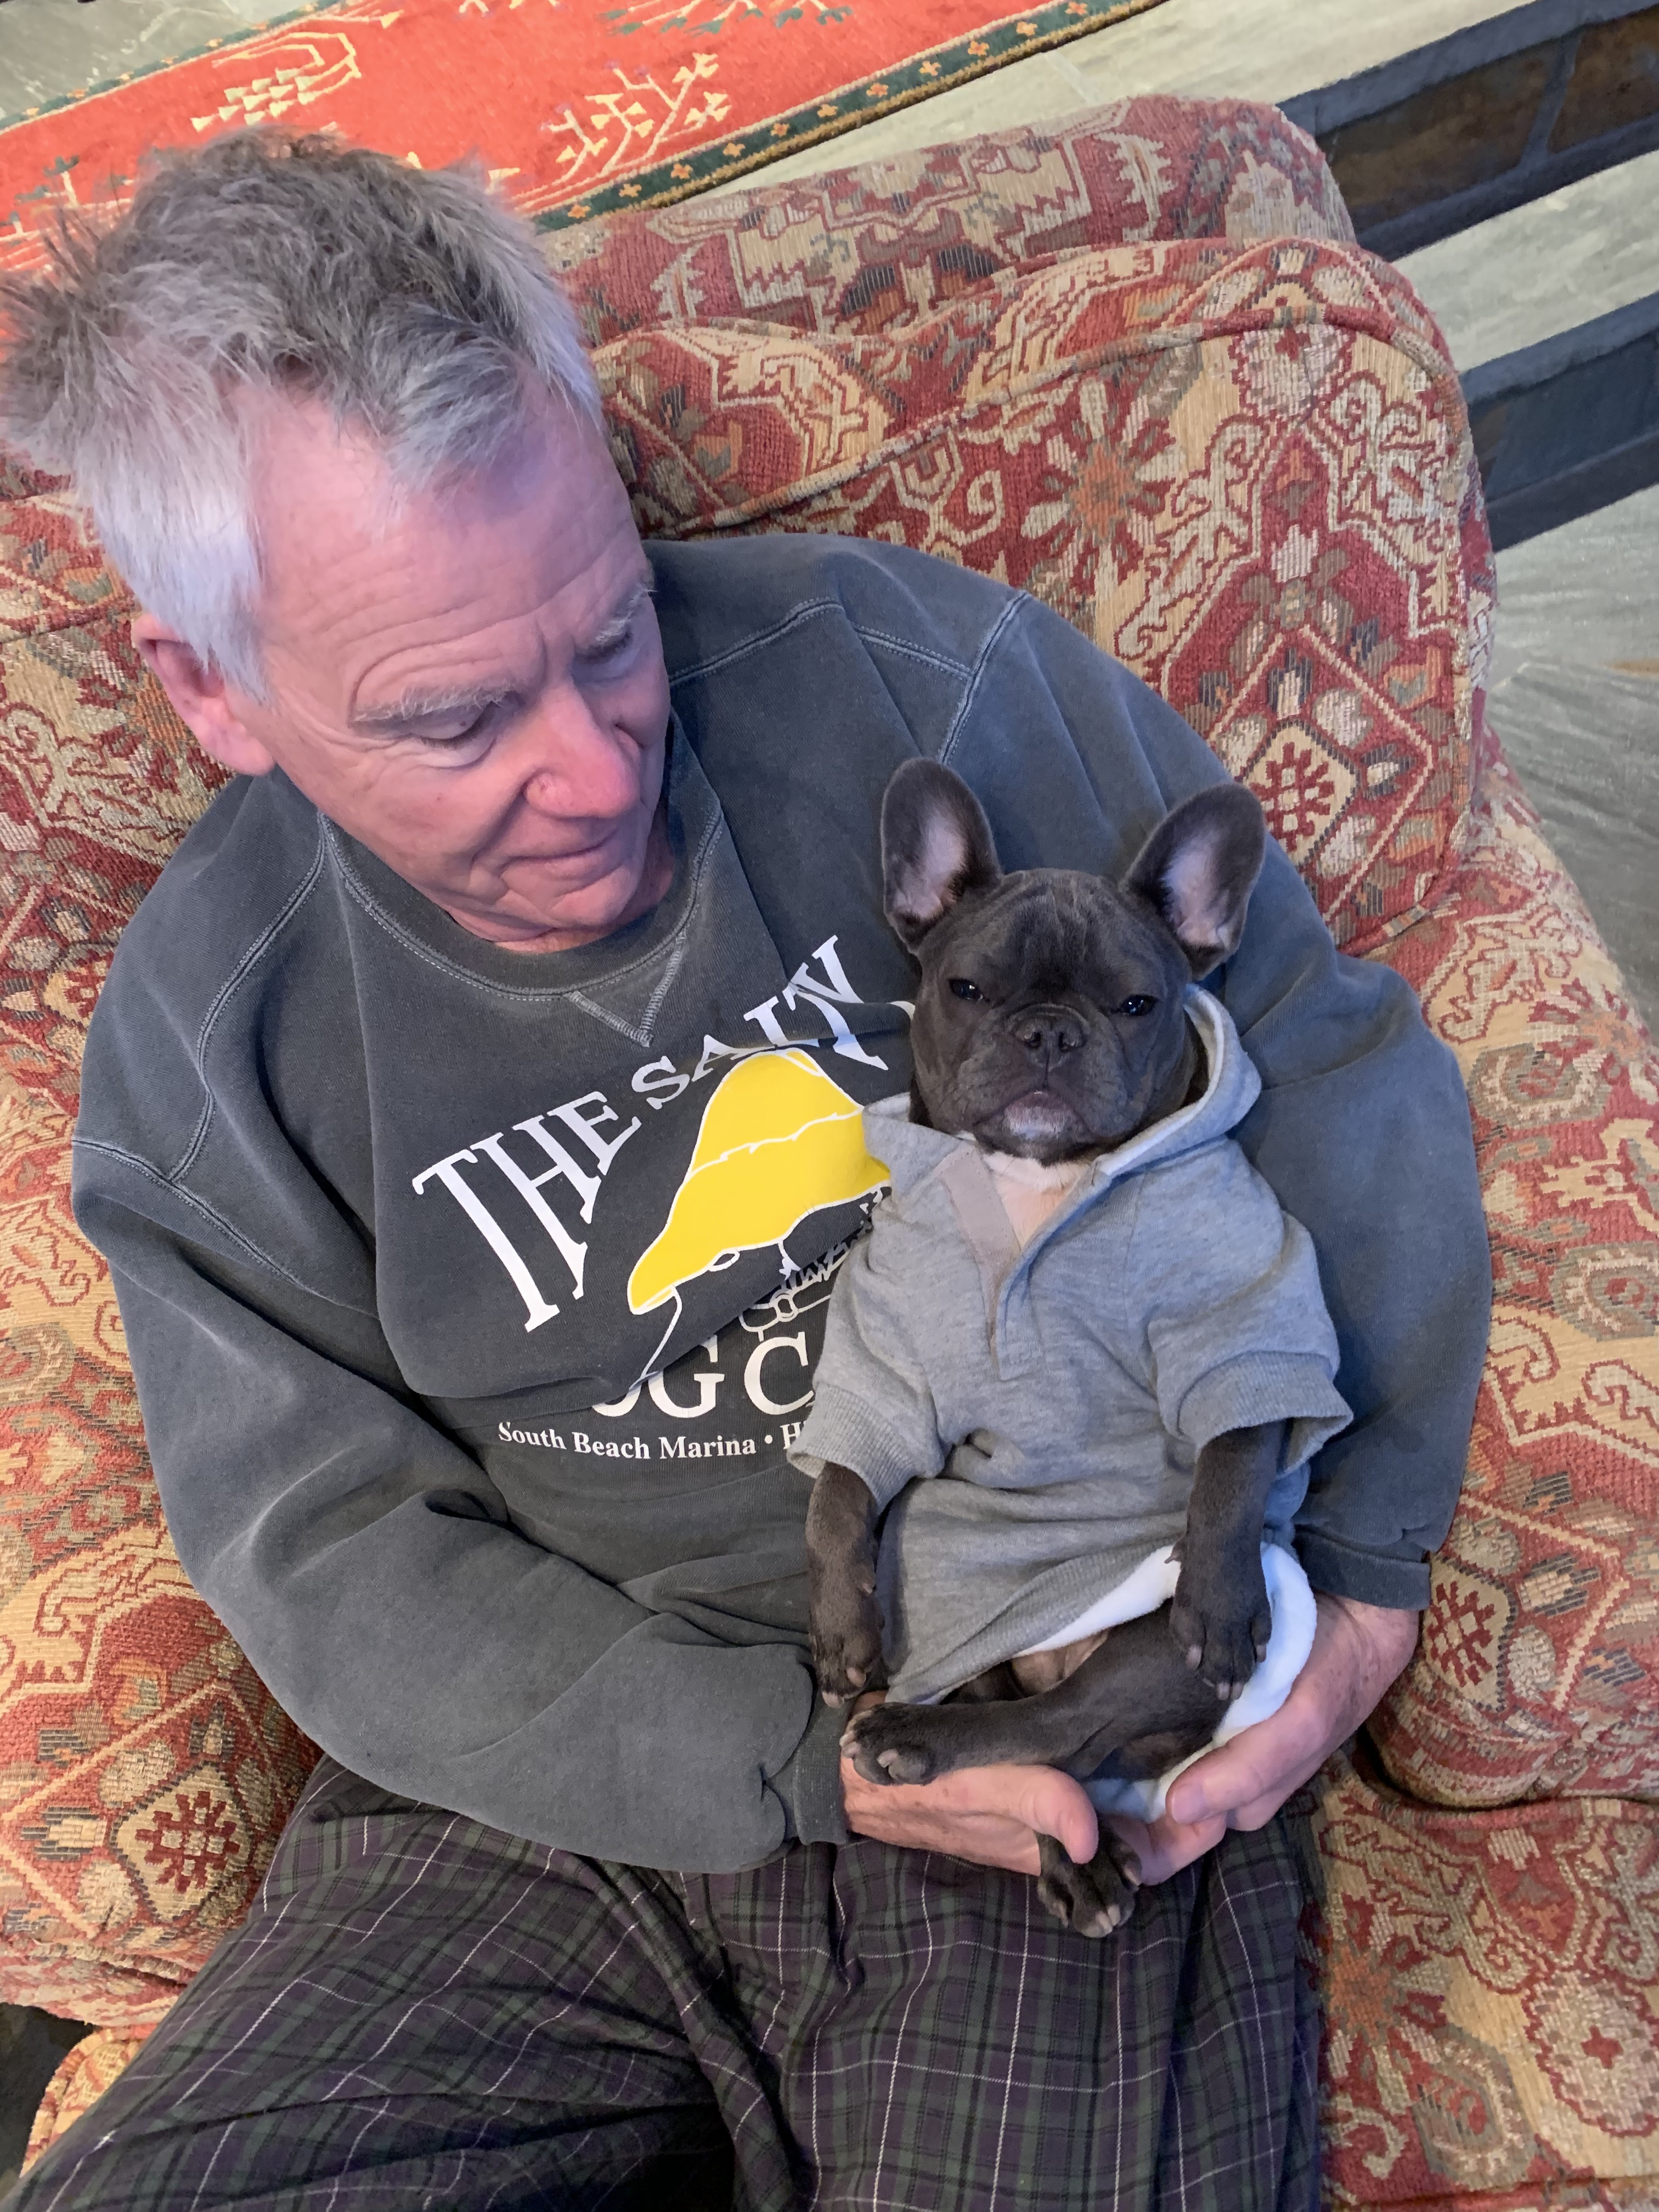lucy: (795, 752, 1352, 1949)
